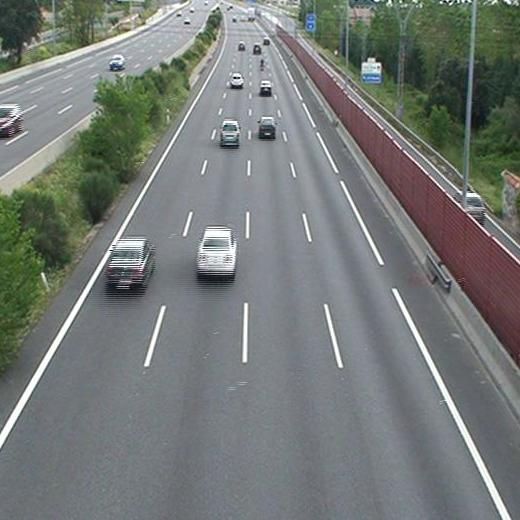car: (106, 240, 155, 284), (196, 227, 236, 274), (219, 120, 240, 144), (258, 116, 275, 135), (229, 73, 244, 88), (259, 80, 273, 92), (251, 44, 261, 52), (237, 42, 245, 50)
motorcycle: (258, 56, 266, 71)
